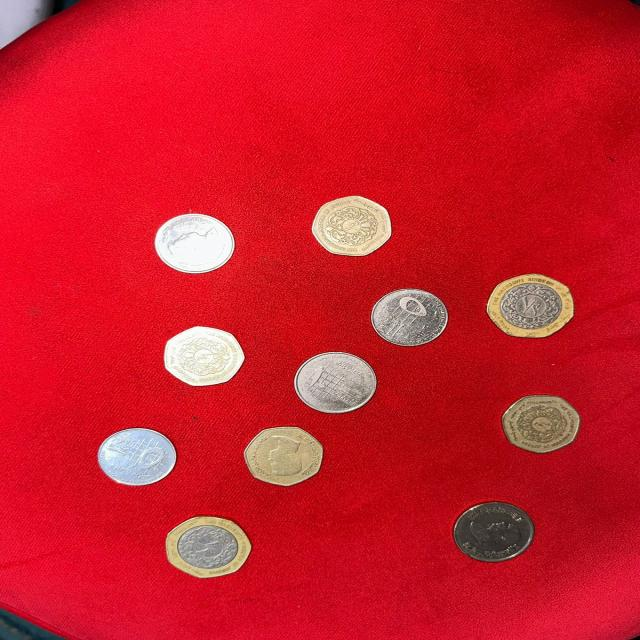10-coins: (293, 350, 378, 416), (452, 499, 535, 564)
25-coins: (164, 326, 247, 387), (498, 394, 582, 454), (310, 196, 392, 256), (243, 426, 324, 486)
5-coins: (154, 212, 237, 274), (95, 428, 178, 486), (368, 287, 449, 346)
50-coins: (486, 272, 577, 340), (164, 514, 252, 580)
